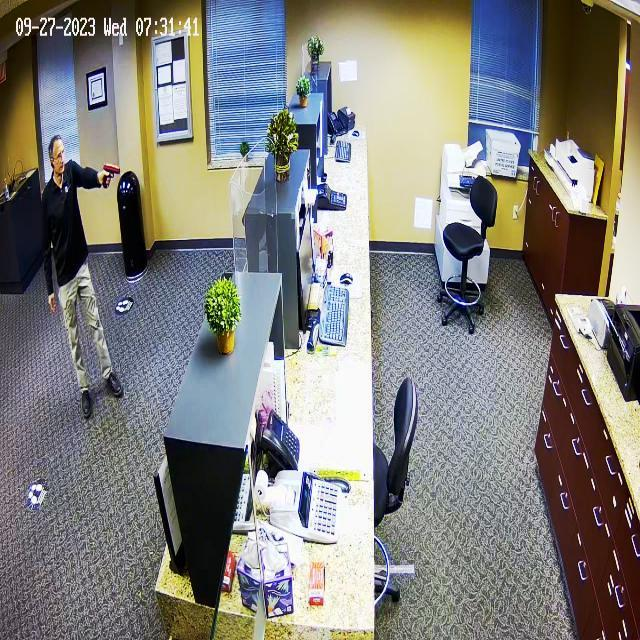Gun: (95, 152, 127, 186)
